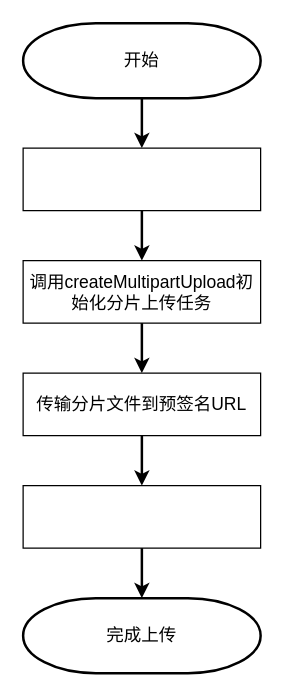
Some shapes in this 283 by 695 pixel diagram are drawn without their labels. The shapes that lost their labels are listed below. From the top down, each one's centre as x and y in pixels, then its label:
At (x=141, y=179): "文件分块".
At (x=141, y=516): "调用completeMultipartUpload合并文件".
